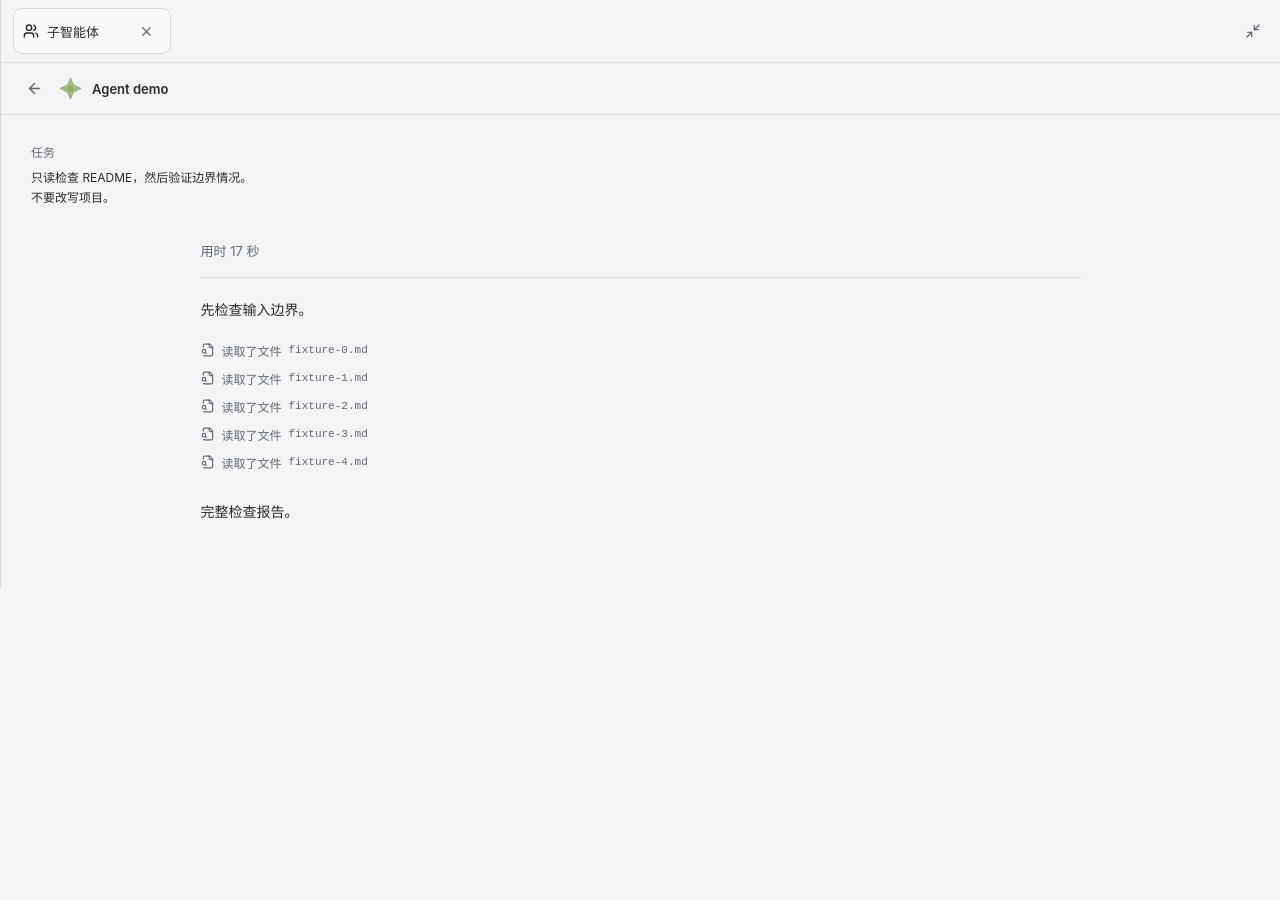
Scenario: keeps the child task and every completed execution step visible, with tool output available on demand
This screenshot has width=1280, height=900.
Expected: the text "PRIVATE_OUTPUT" is not shown
Click the button with class "activity-row" showing "读取了文件 fixture-0.md". click: x=297, y=350
box: [200,336,393,364]
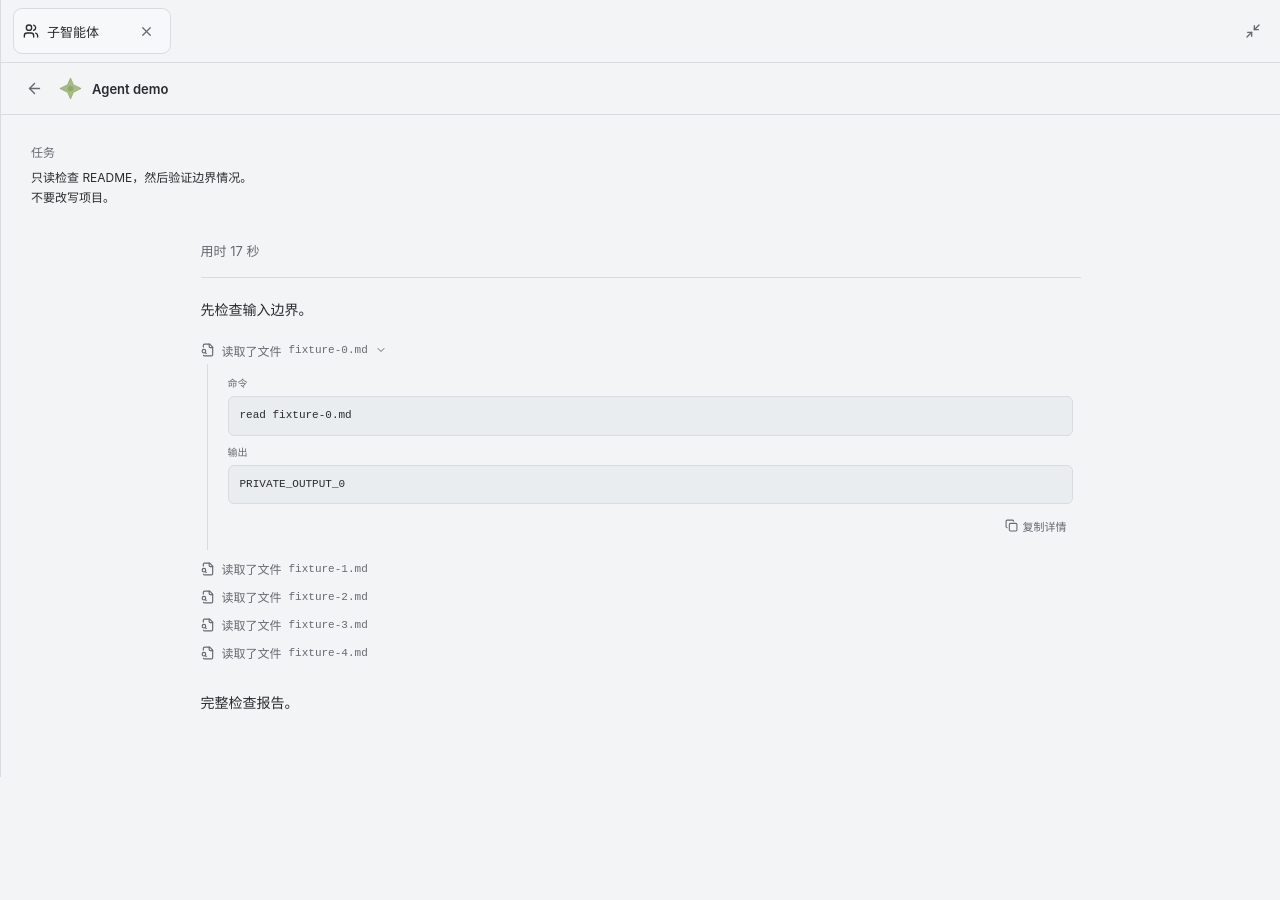
Expected: the number of elements with class "activity-item" is 5, [200,336,1080,550]; [200,555,393,583]; [200,583,393,611]; [200,611,393,639]; [200,639,393,667]
Result: the text "PRIVATE_OUTPUT_0" is shown at [228,464,1072,504]
